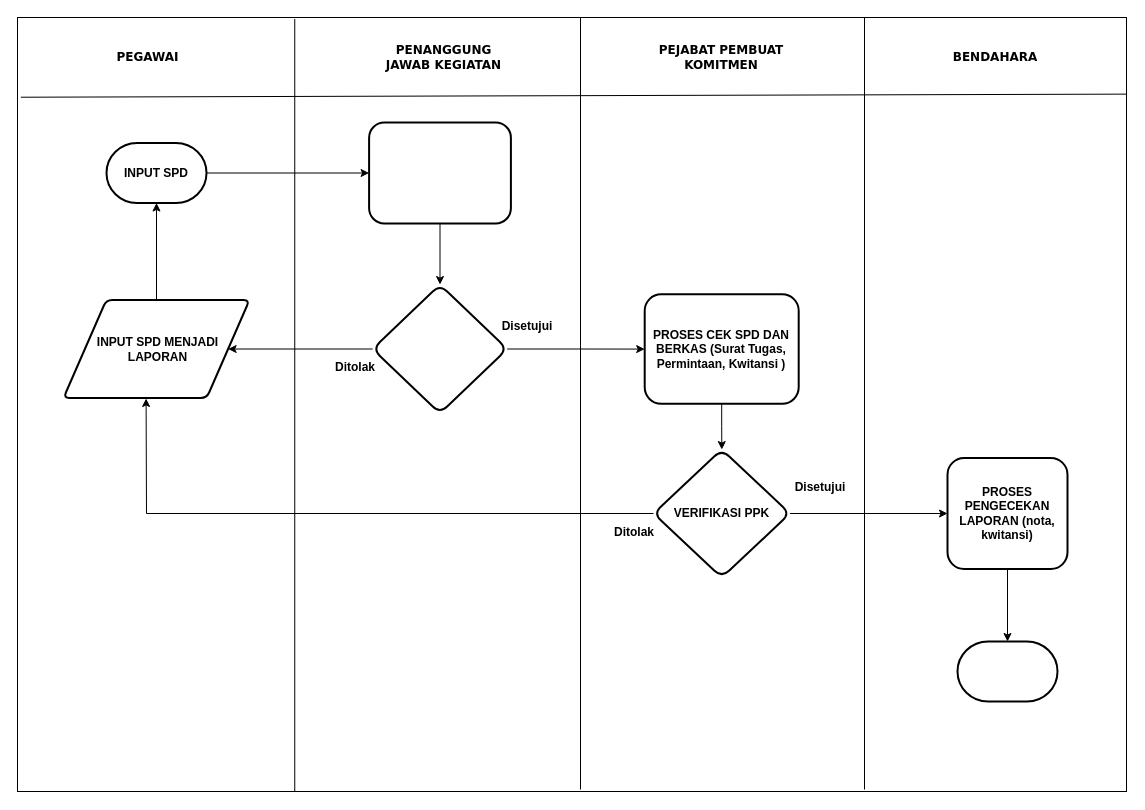
Image size: 1145x810. Some labels were removed from this diagram. The shapes that lost their labels are listed below. From the top down, each one's centre as x and y in pixels, then its label:
At (439,172): "PROSES CEK SPD (Pilih Mata Anggaran)".
At (439,348): "VERIFIKASI PMK".
At (1007,671): "SELESAI SPD".
